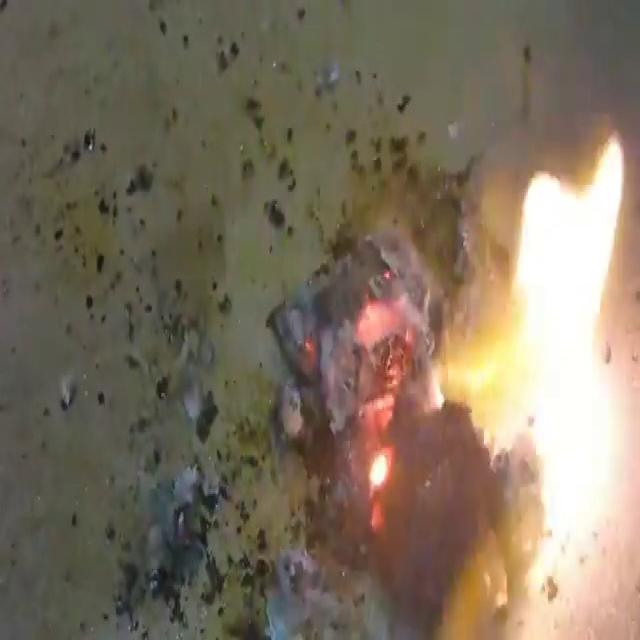Fire: (219, 98, 639, 640)
